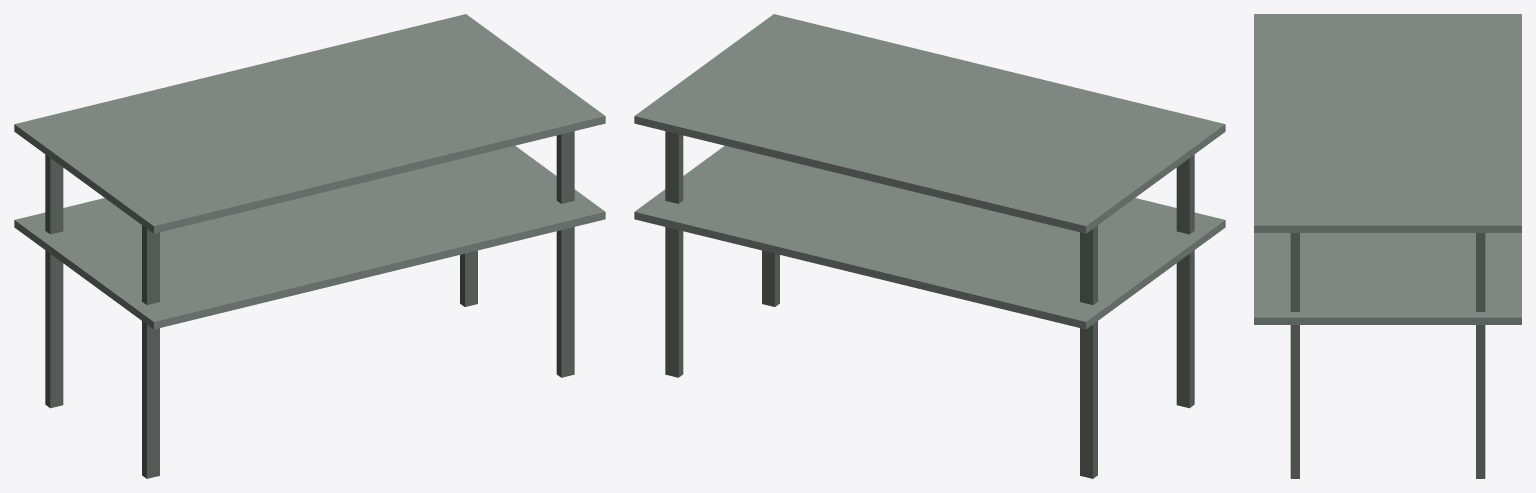
File: SM_table_02.fbx
3 renders of one model, left to right at view 1: azimuth 30°, elevation 25°; view 2: azimuth 150°, elevation 25°; view 3: azimuth 270°, elevation 25°, orthographic. The views are drawn at different scales.
Visible parts, largest first — view 1: table_02; view 2: table_02; view 3: table_02.
Boxes of the visible parts, bbox=[...] form: table_02: bbox=[14, 14, 605, 478]; table_02: bbox=[634, 14, 1225, 478]; table_02: bbox=[1254, 14, 1521, 478].
Bounding box in the file's own units: 243 × 139 × 130.
